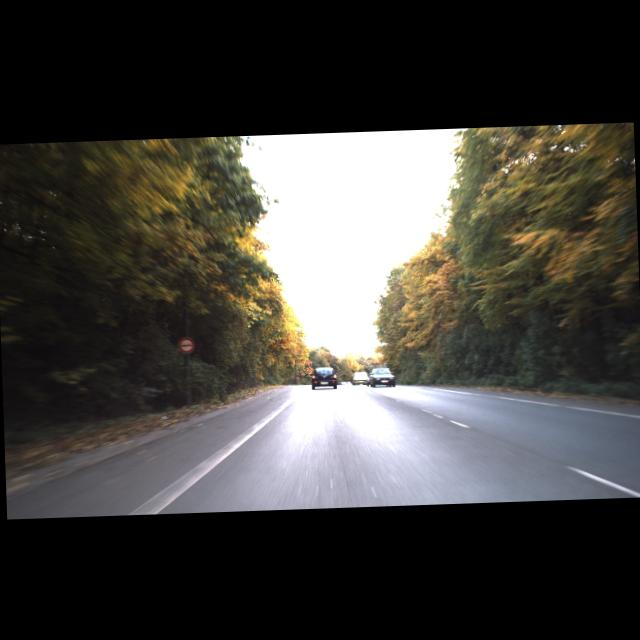prohibitory: (178, 335, 195, 352)
